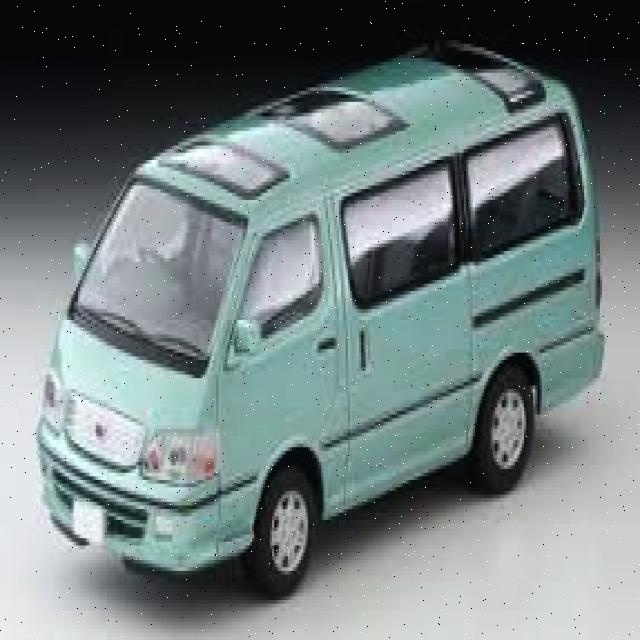Van: (40, 36, 607, 593)
